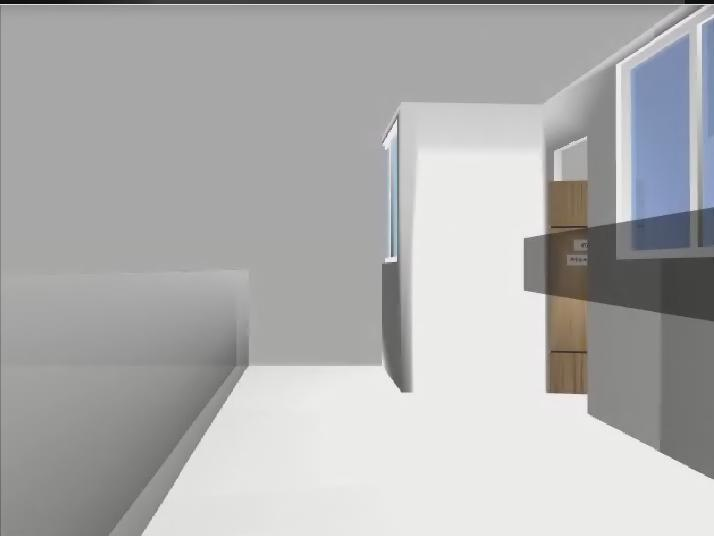door: (550, 180, 589, 393)
